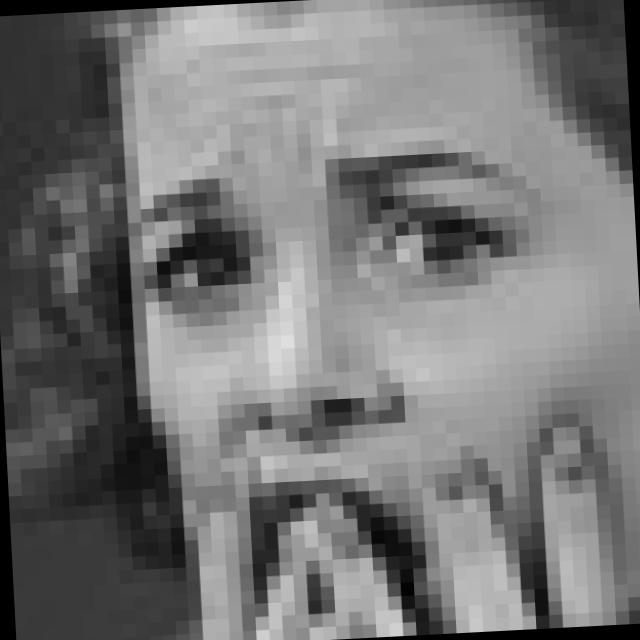fear: (136, 121, 578, 640)
